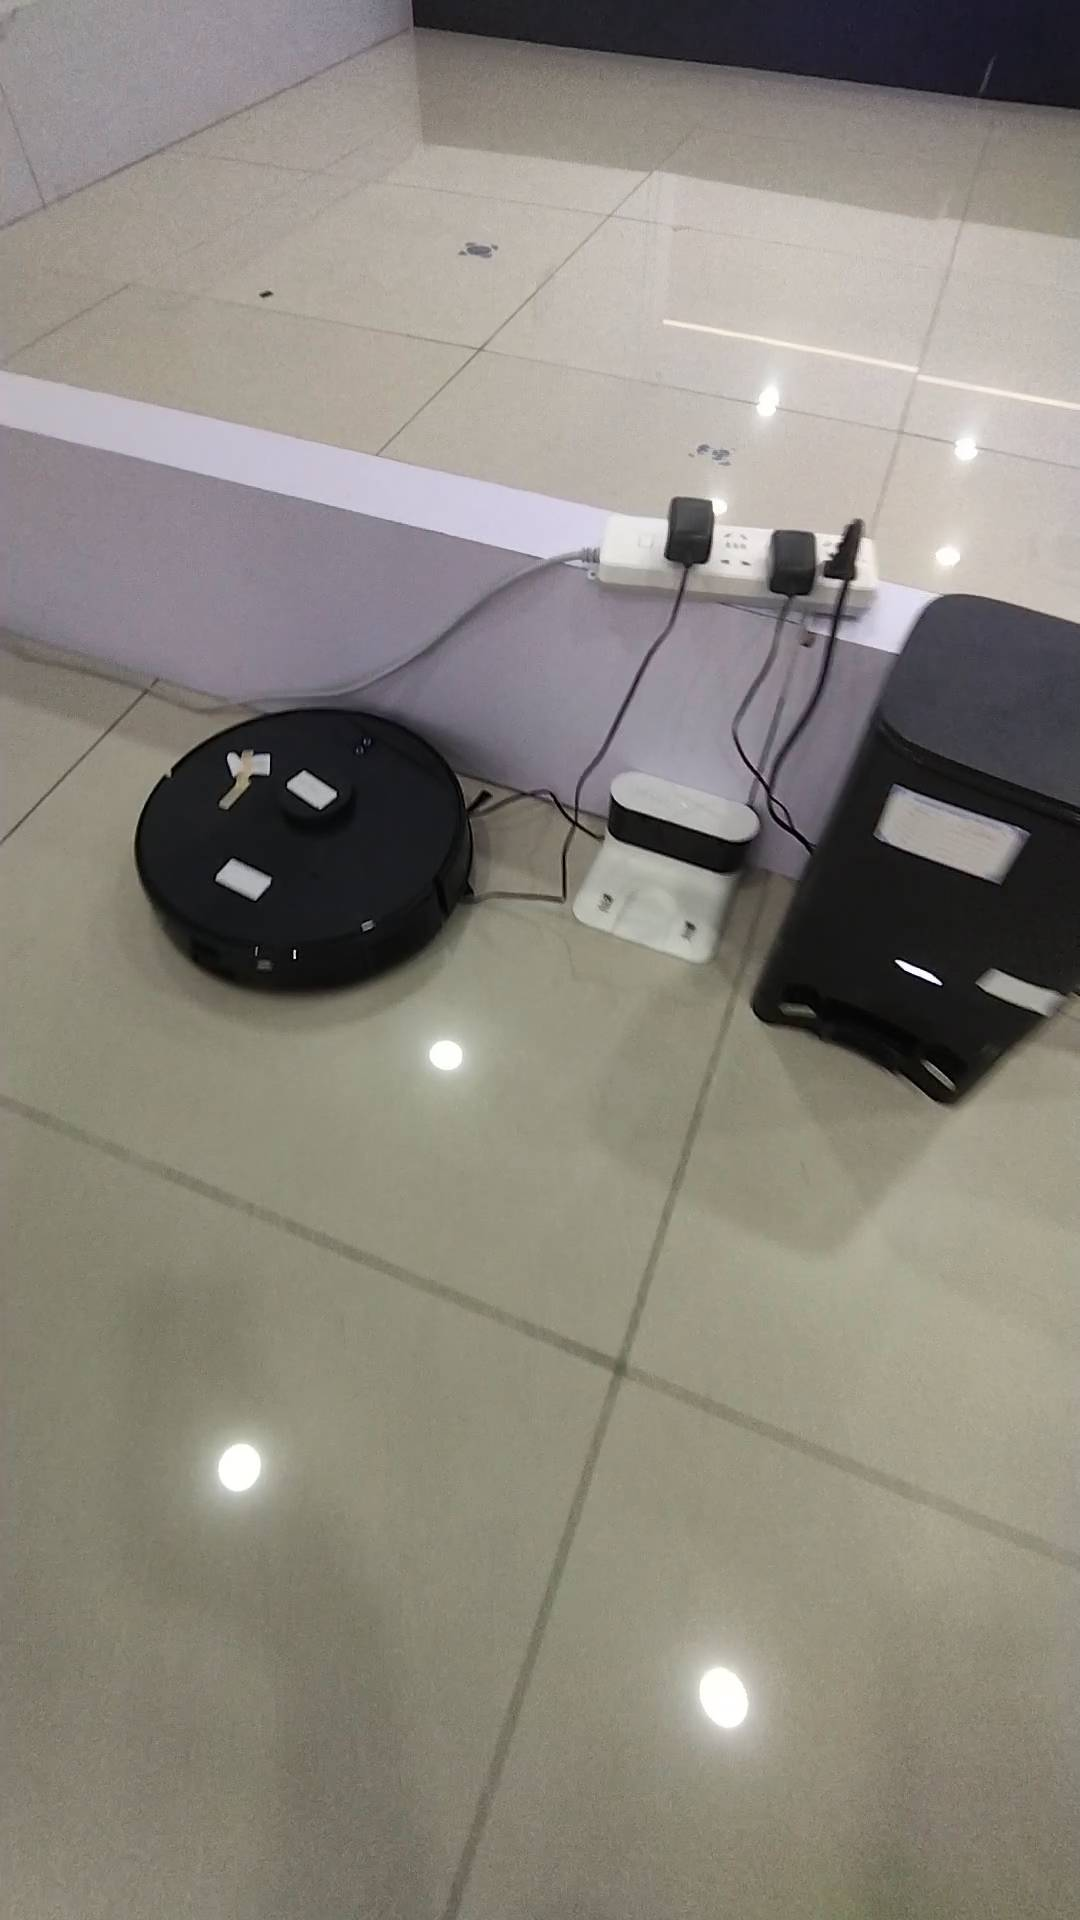dust collecting barrel: (748, 593, 1080, 1112)
recharge seat: (572, 774, 767, 967)
